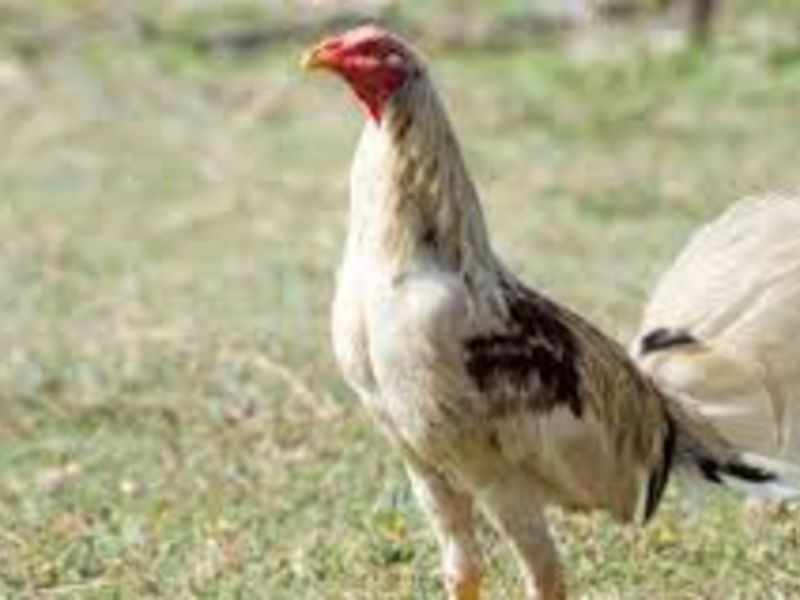hen: (287, 13, 800, 599)
